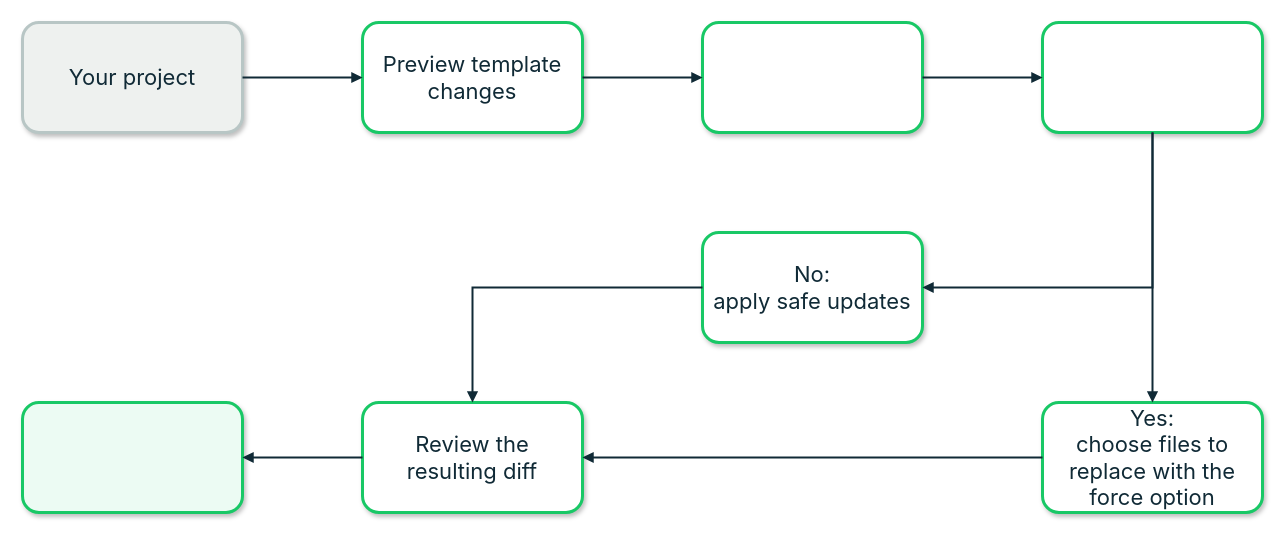
Some shapes in this 1287 by 538 pixel diagram are drawn without their labels. The centre of each missing label's shape, as x and y in pixels:
"Commit through a PR or update main directly" goes at point (133, 458).
"Compare each managed file" goes at point (813, 78).
"Local edits found?" goes at point (1153, 78).
